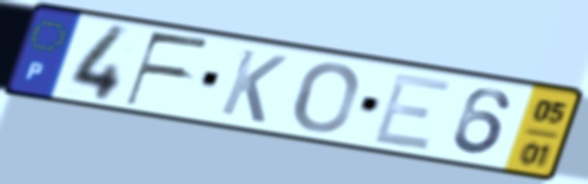4: (66, 21, 132, 104)
6: (451, 87, 513, 158)
E: (368, 70, 456, 154)
F: (121, 30, 214, 109)
K: (215, 46, 291, 127)
O: (290, 60, 361, 134)
